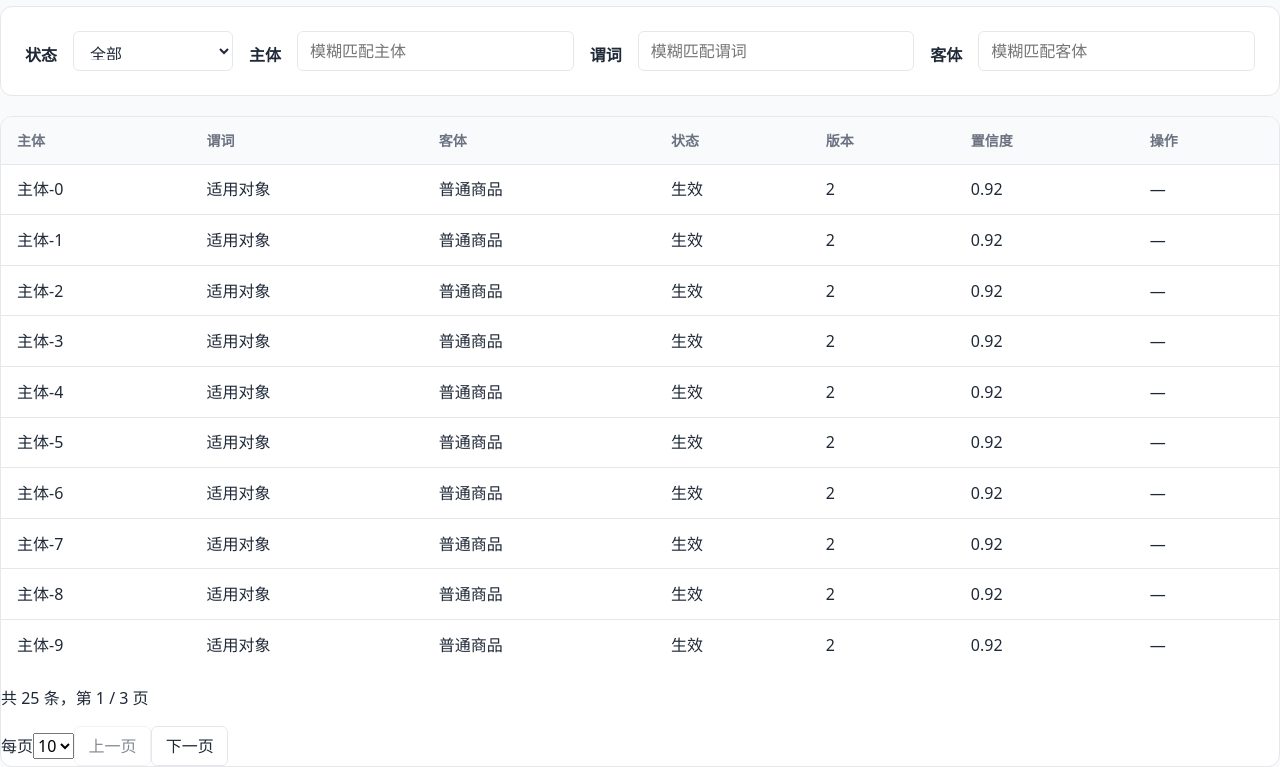
ClaimsPage › paginates claims and navigates between pages
(page scrolled)
Expected: the text "主体-0" is shown, [1,164,190,215]
Expected: the text "主体-9" is shown, [1,619,190,670]
Click the button "下一页" at (190, 746), box [151,726,228,766]
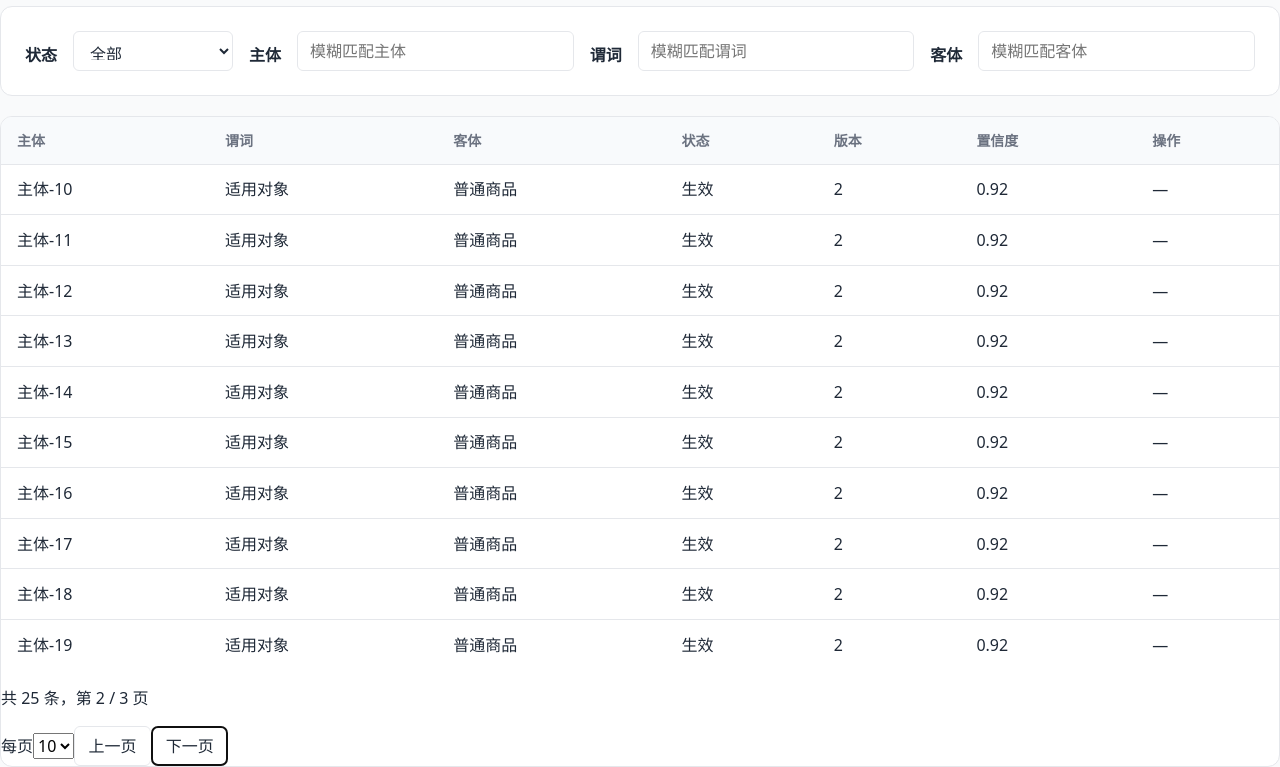
Result: the text "主体-10" is shown at [1,164,209,215]
Result: the text "主体-0" is gone
Result: the text "共 25 条，第 2 / 3 页" is shown at [1,686,149,708]
Click the button "下一页" at (190, 746), box [151,726,228,766]
(page scrolled)
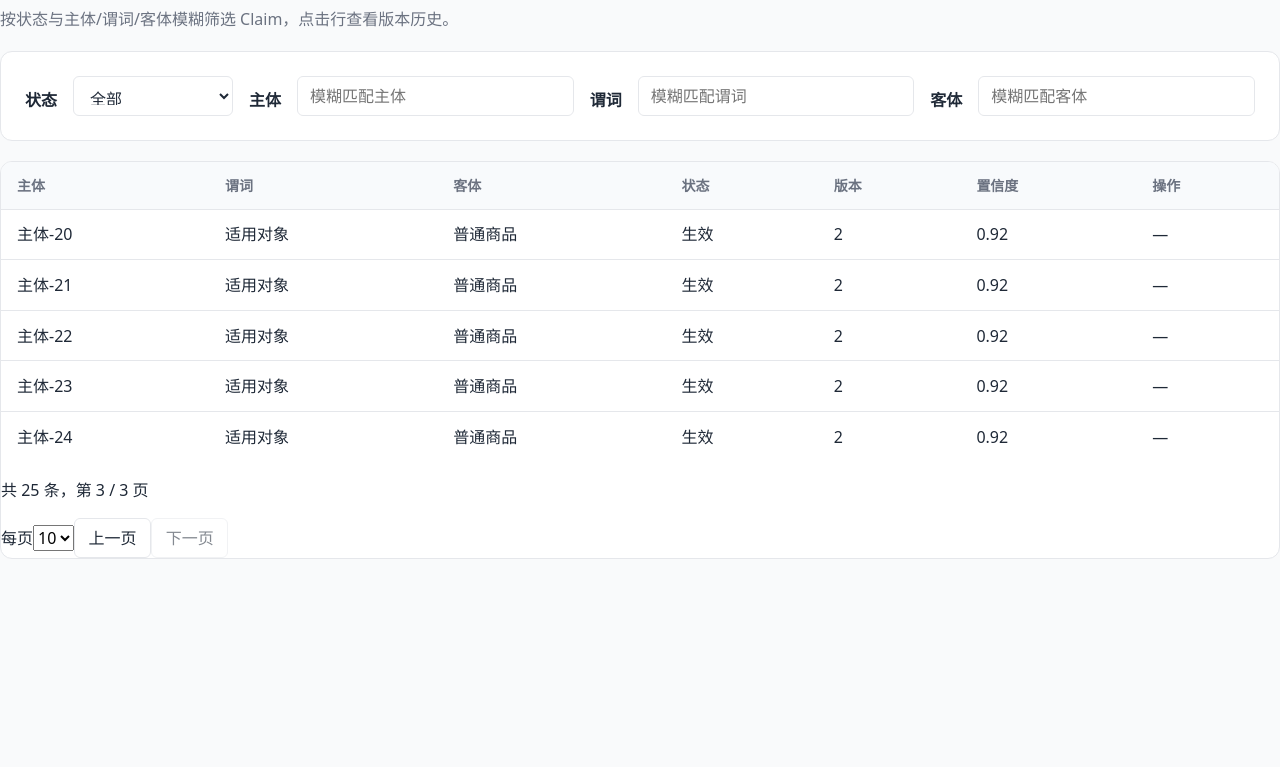
Result: the text "主体-20" is shown at [1,209,209,260]
Result: the text "主体-10" is gone
Result: the text "共 25 条，第 3 / 3 页" is shown at [1,479,149,501]
